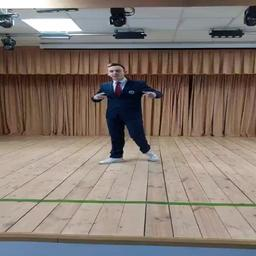person: (91, 64, 163, 164)
